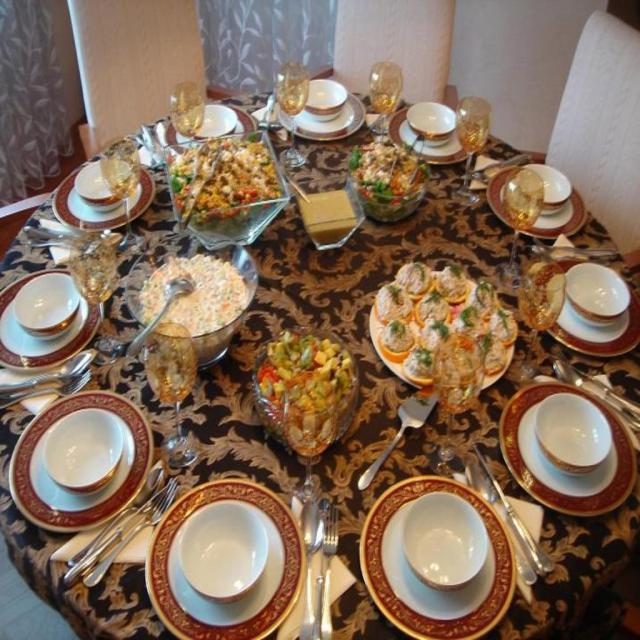non-organic waste: (350, 453, 522, 640), (158, 468, 301, 640), (496, 378, 635, 534)
